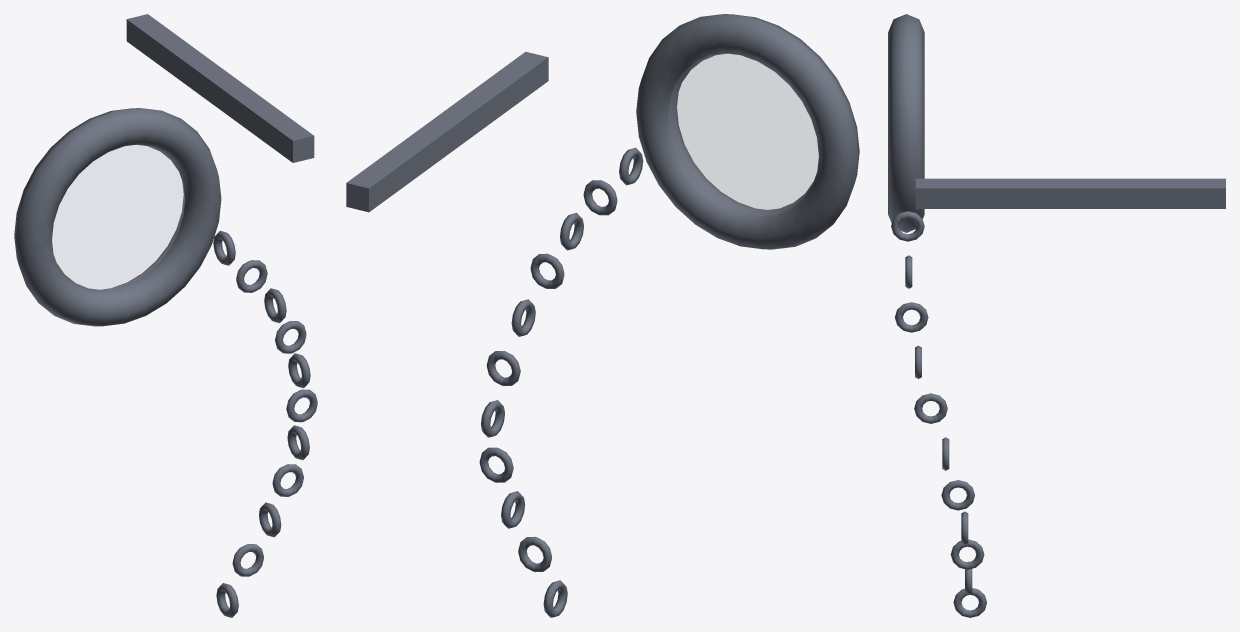
File: gl_eqen0.glb
3 renders of one model, left to right at view 1: azimuth 30°, elevation 25°; view 2: azimuth 150°, elevation 25°; view 3: azimuth 270°, elevation 25°, orthographic. The views are drawn at different scales.
Bounding box in the file's own units: 1.17 × 1.97 × 1.14.
